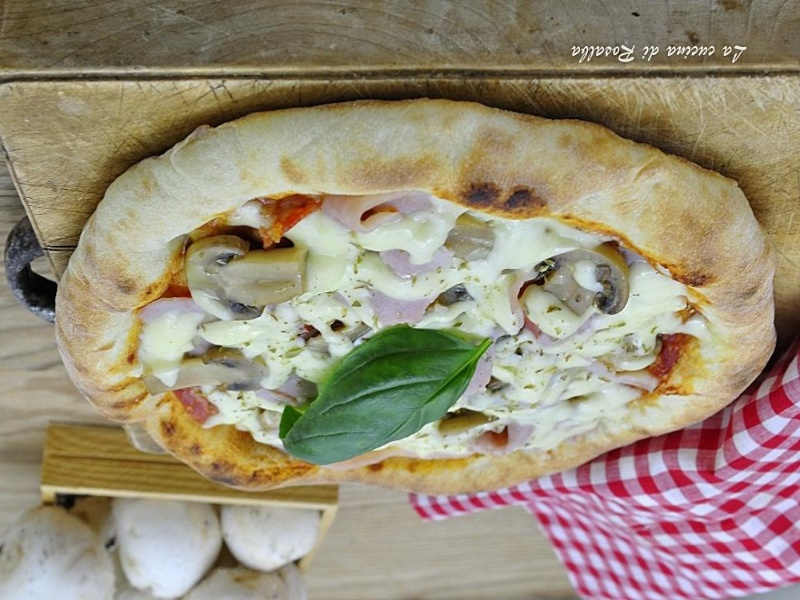champignon: (183, 228, 319, 330), (528, 241, 634, 330), (164, 342, 273, 402)
